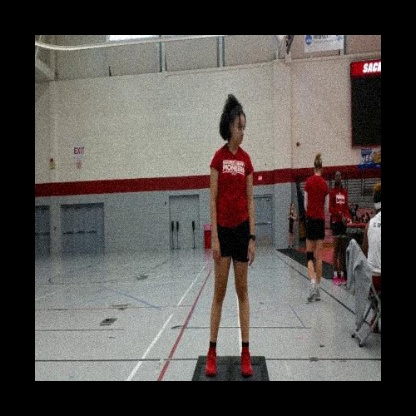lateral_flexion_right: (204, 87, 259, 381)
stance_width_normal: (203, 144, 258, 381)
